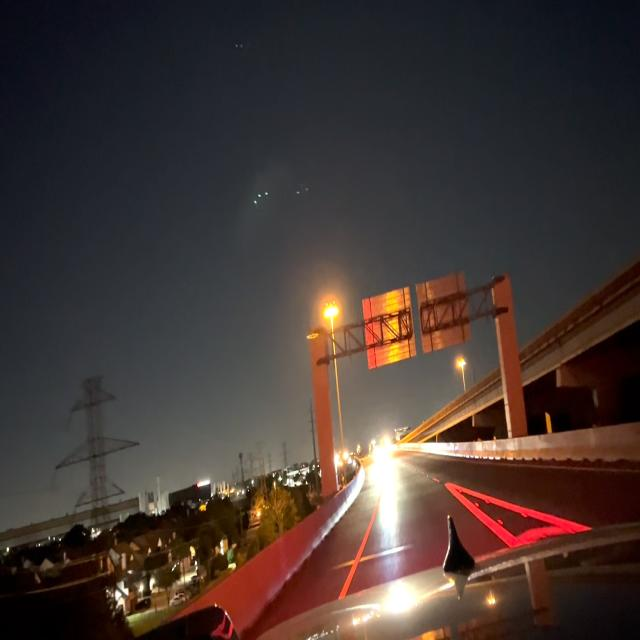back-of-sign: (415, 270, 472, 356), (362, 286, 414, 378)
